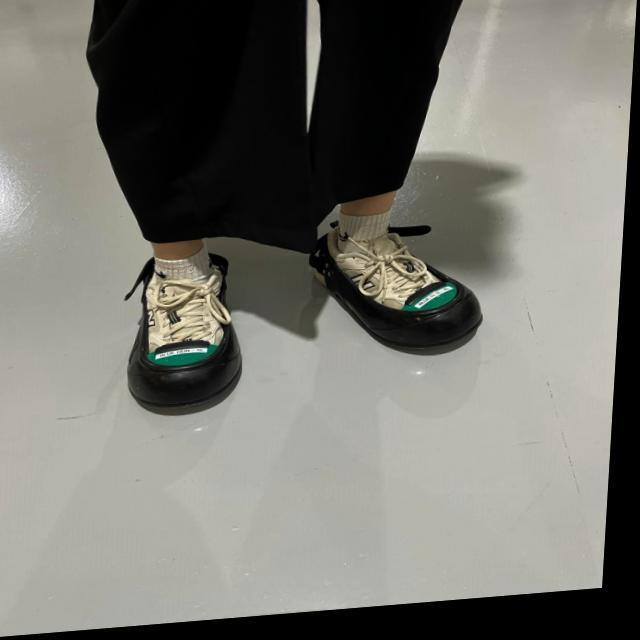shoes: (314, 222, 489, 365), (124, 249, 246, 421)
